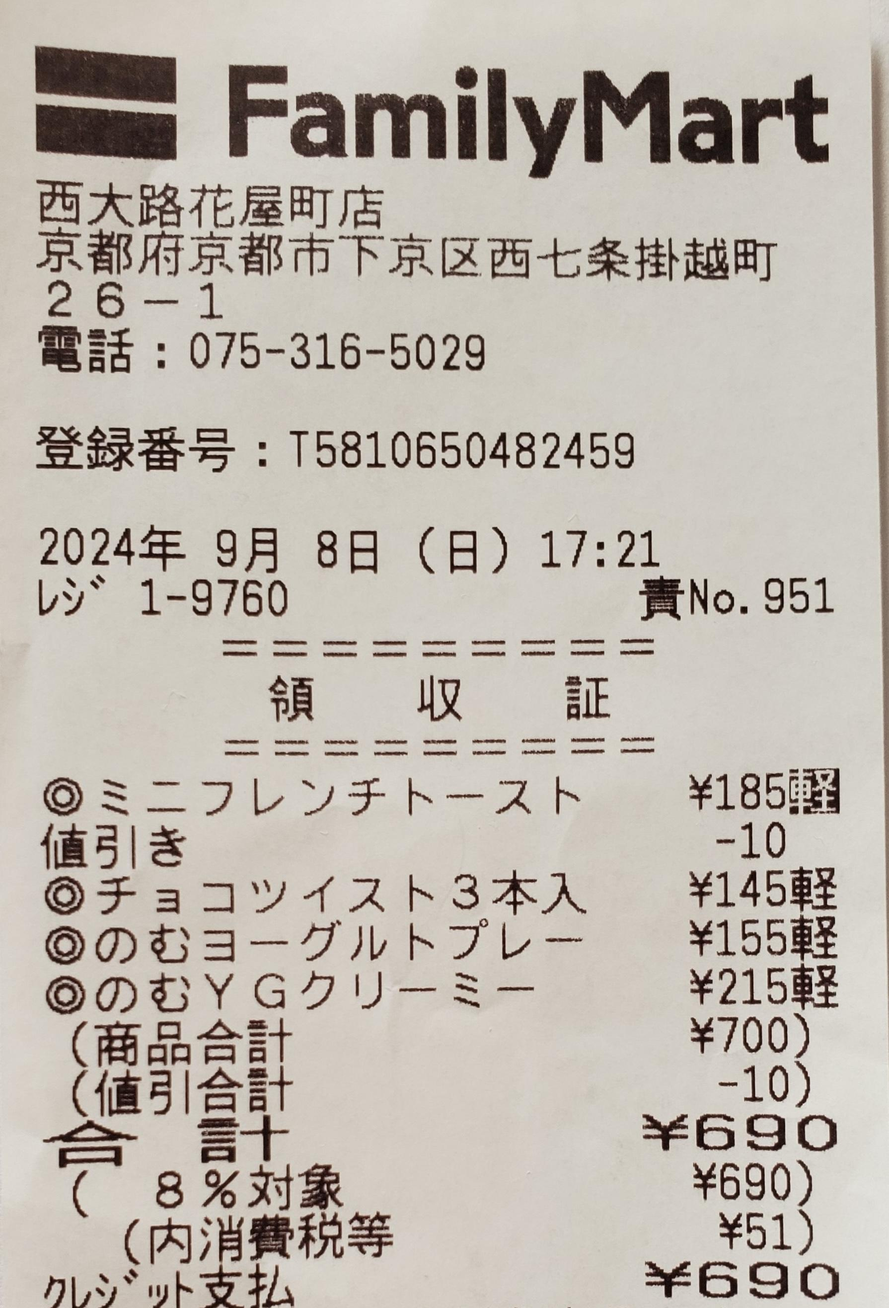TEL: (175, 325, 513, 391)
date: (28, 517, 398, 575)
total: (695, 1103, 848, 1158)
